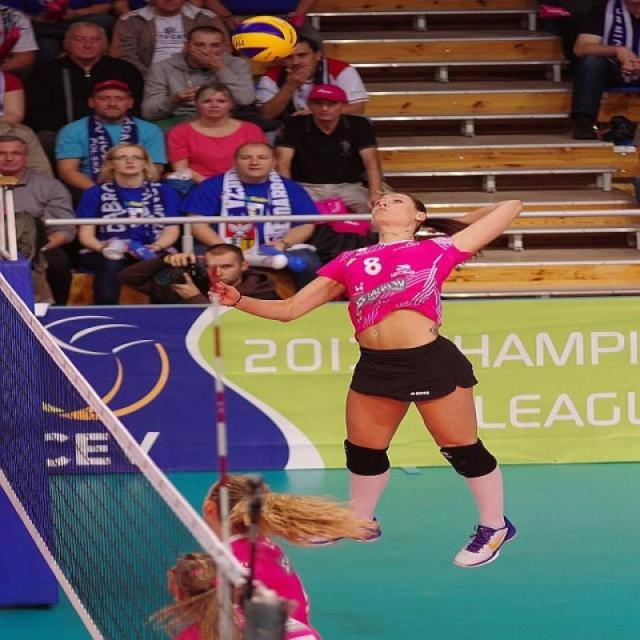volleyball: (228, 13, 302, 62)
